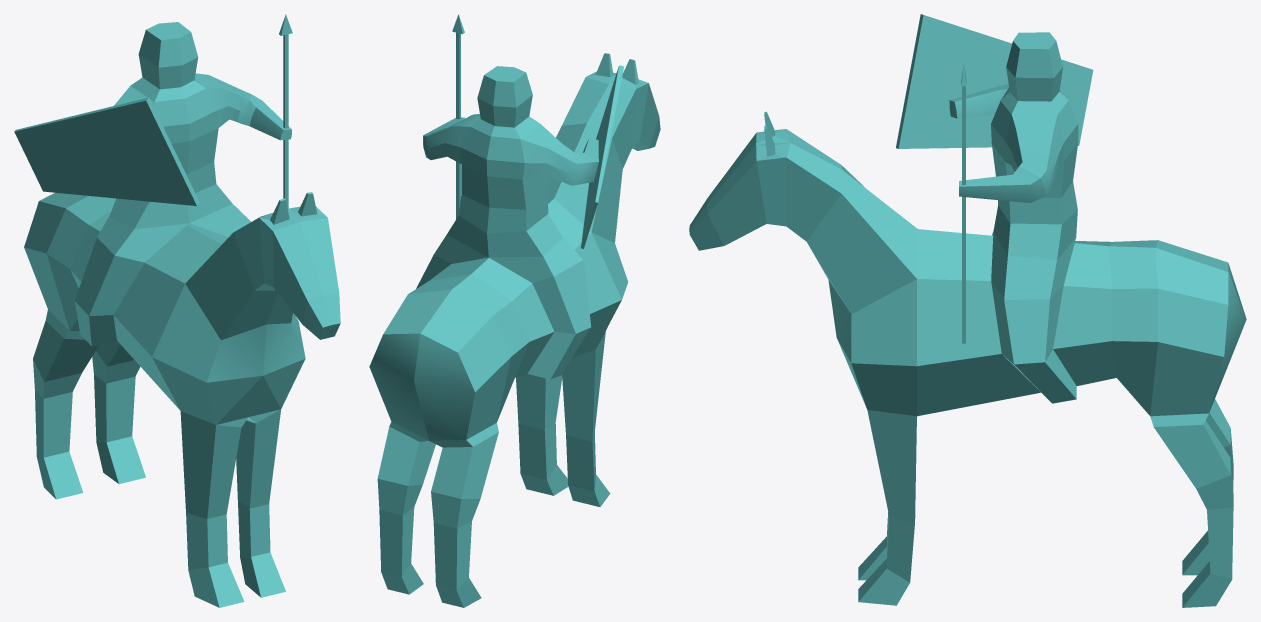
The model's file is VikingKnight.fbx.
3 views of the same model, side by side, from view 1: azimuth 30°, elevation 25°; view 2: azimuth 150°, elevation 25°; view 3: azimuth 270°, elevation 25° (orthographic). The views are drawn at different scales.
Visible parts, largest first — view 1: Knight; view 2: Knight; view 3: Knight.
Boxes of the visible parts, <box> form: Knight: <box>14,14,340,607</box>; Knight: <box>369,14,660,607</box>; Knight: <box>689,14,1246,607</box>.
Size of the model in its own units: 2.56 by 5.81 by 5.19.
